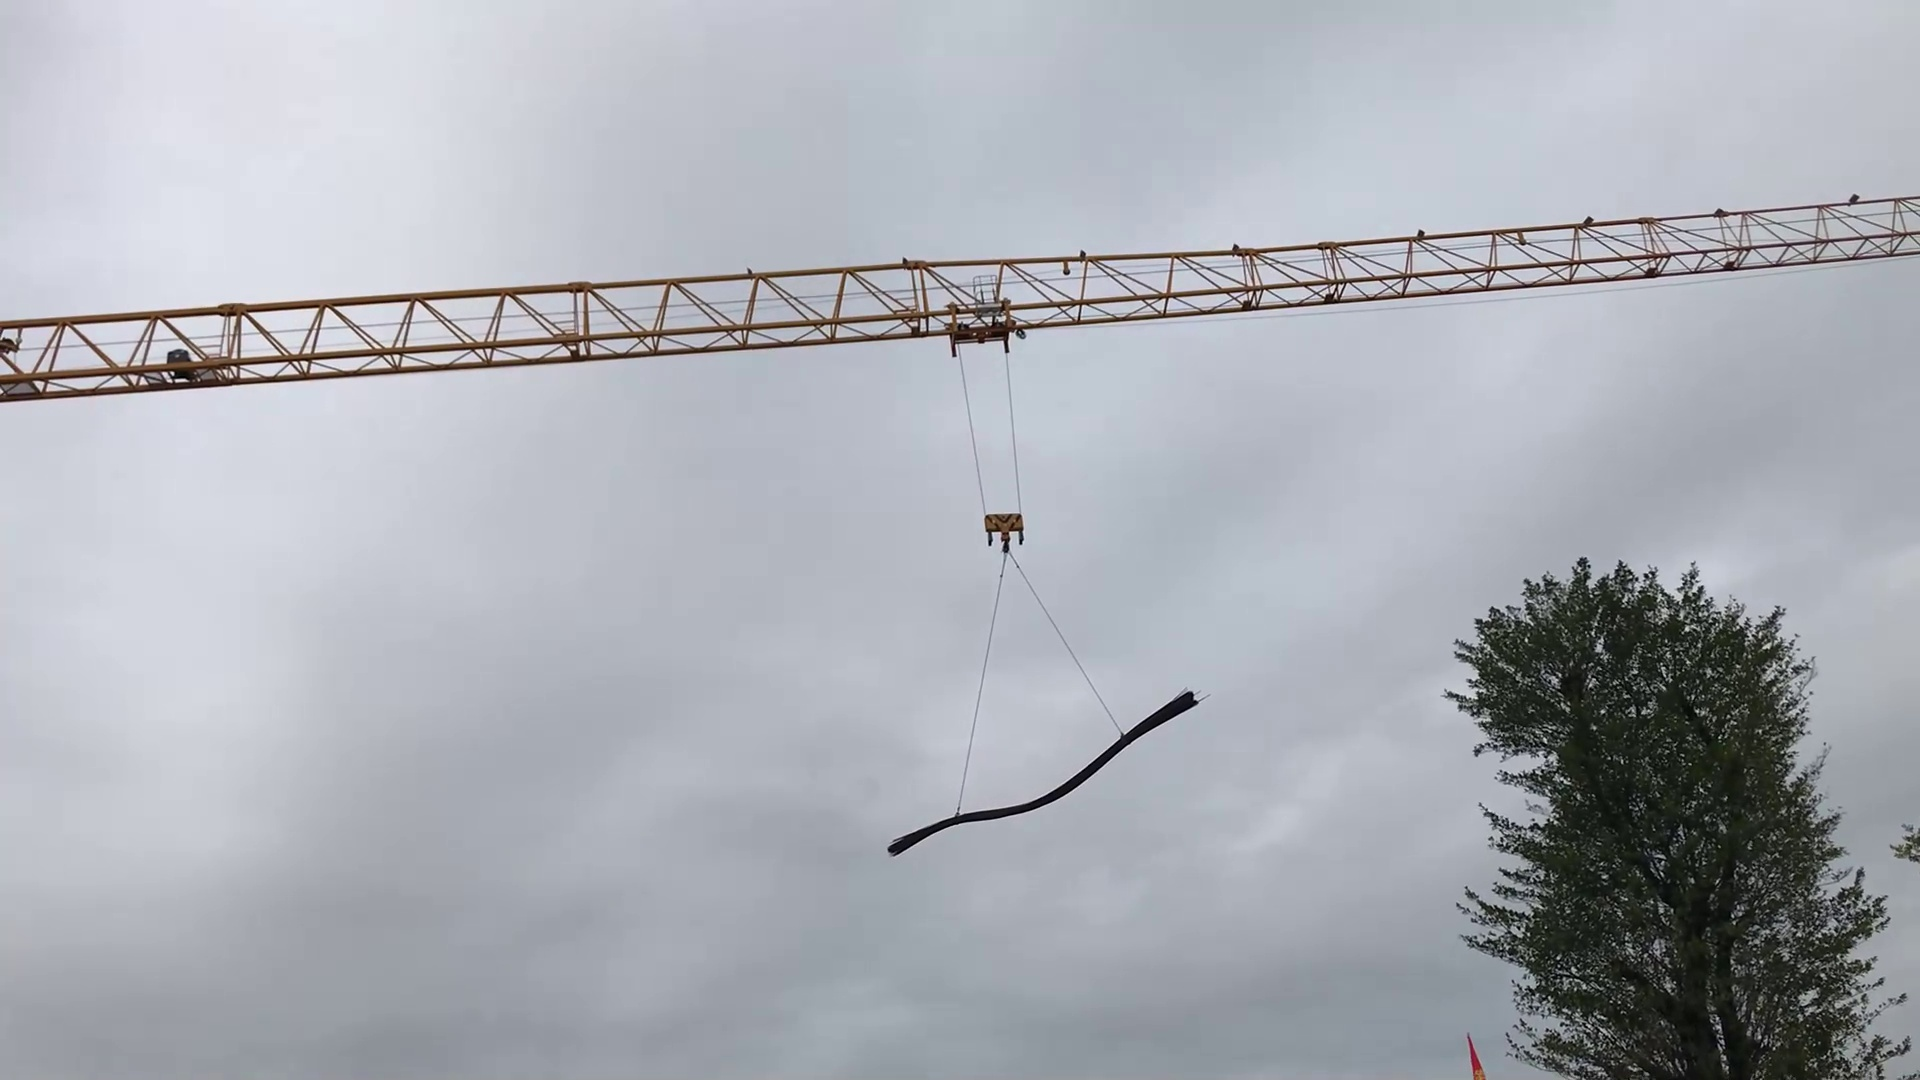hook: (978, 509, 1033, 558)
